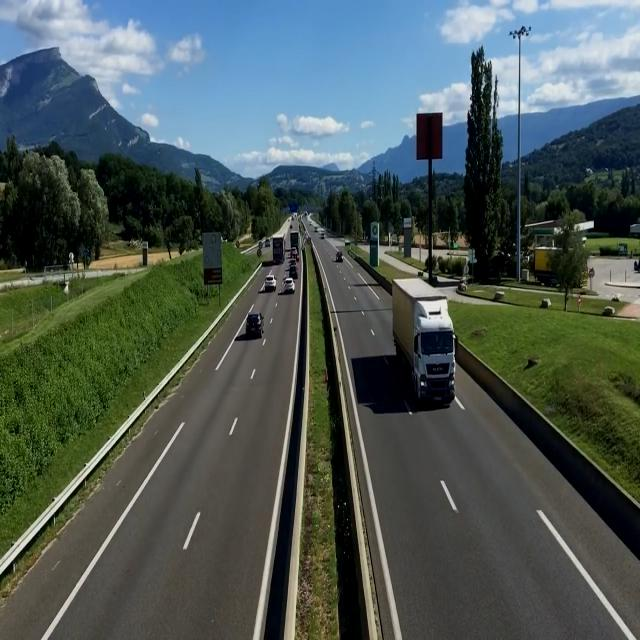Car: (245, 312, 265, 338), (283, 277, 296, 293), (264, 274, 276, 290), (288, 264, 298, 278), (335, 250, 344, 262), (290, 247, 298, 257), (265, 237, 271, 247)
Truck: (390, 277, 458, 407), (272, 233, 286, 264), (289, 230, 300, 255)
